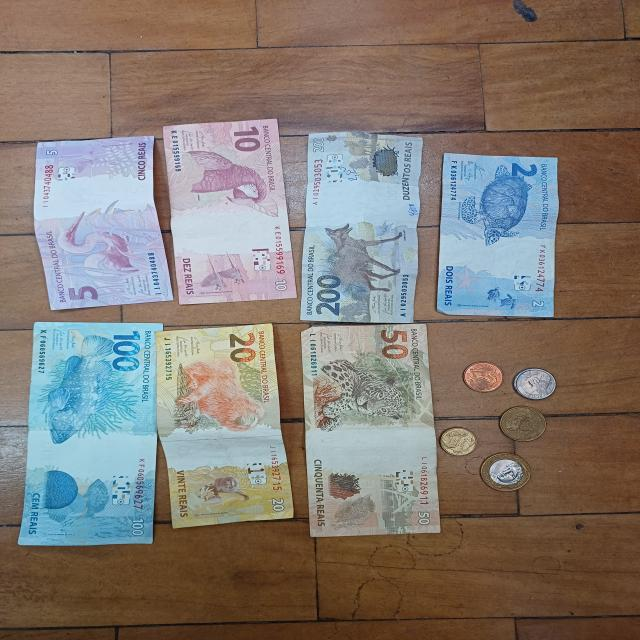1 real: (480, 451, 532, 492)
25 cents: (500, 405, 546, 443)
50 cents: (515, 368, 556, 400)
